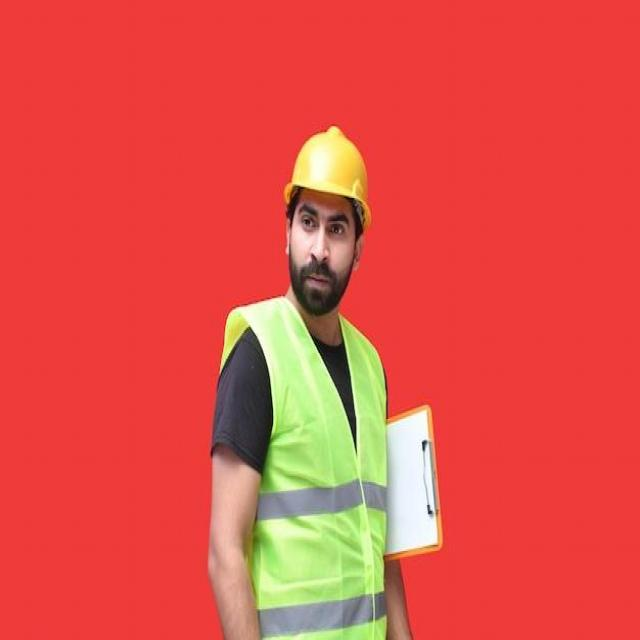Reflective-Jacket: (210, 292, 400, 636)
Safety-Helmet: (279, 120, 379, 227)
